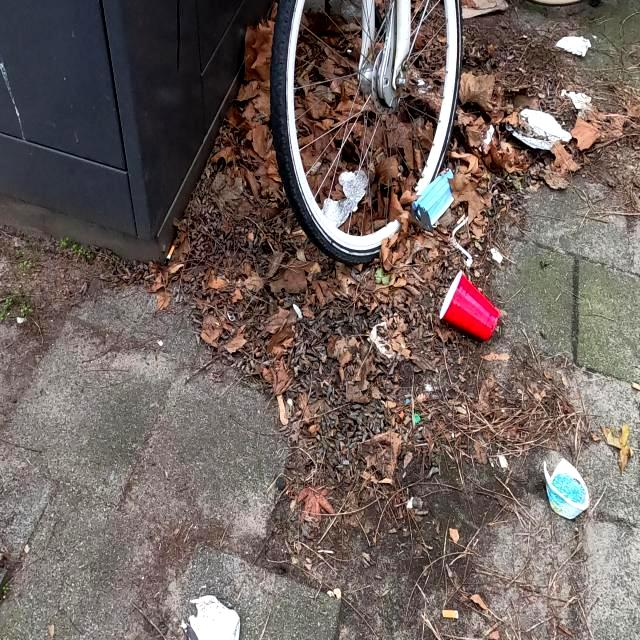Coffee Cup: (438, 267, 500, 343)
Mask: (410, 166, 454, 230)
Paper: (544, 456, 590, 520), (180, 594, 240, 640), (368, 320, 396, 360), (554, 35, 592, 57), (566, 90, 592, 110)
